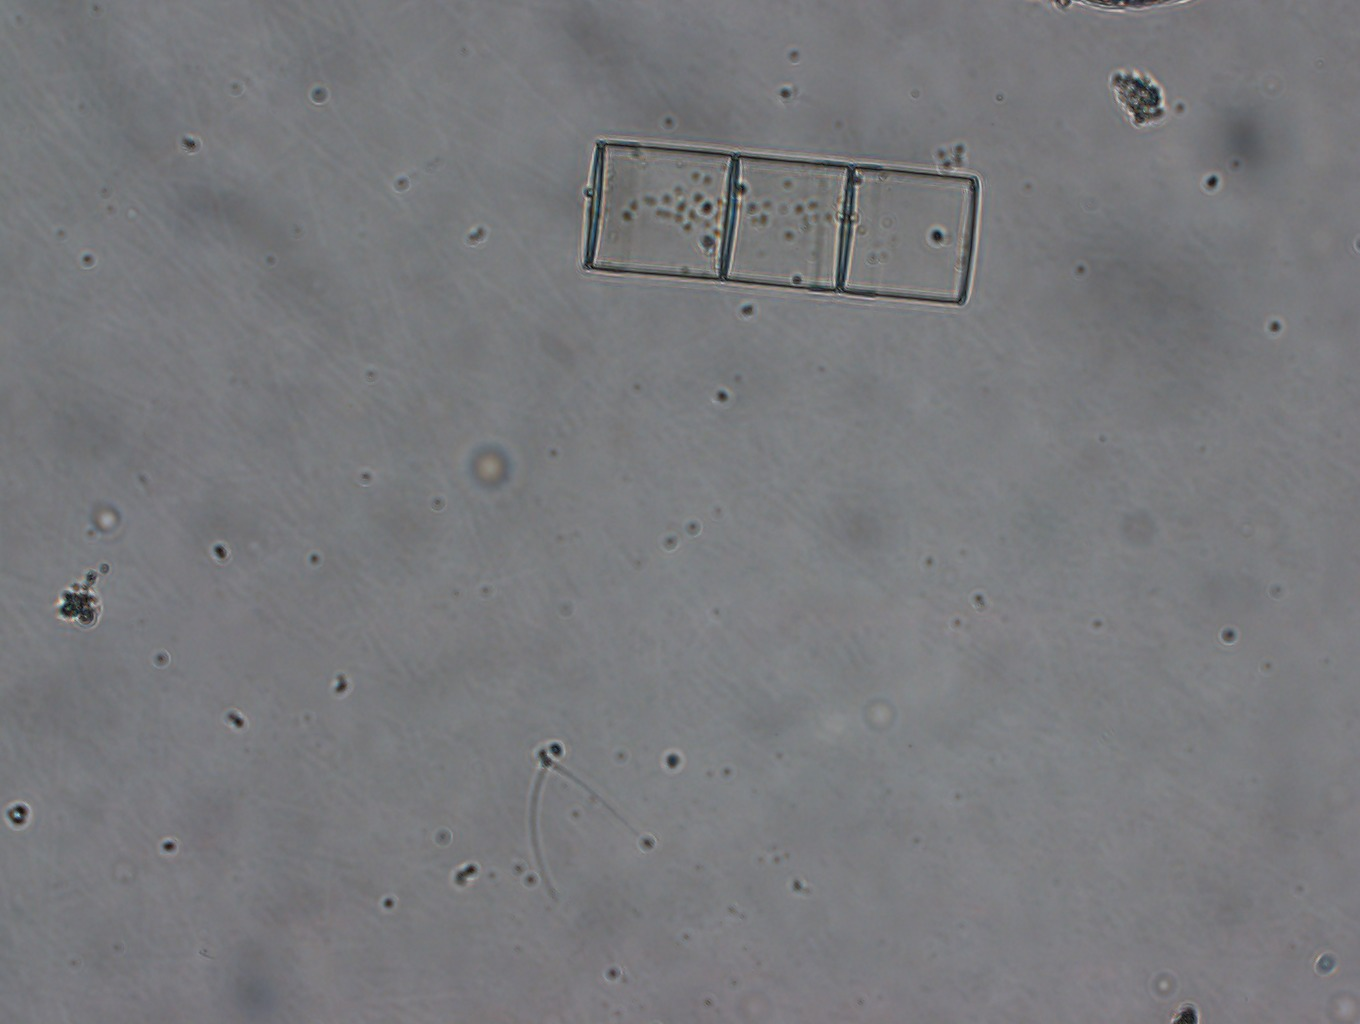guinardia flaccida: (579, 137, 980, 309)
